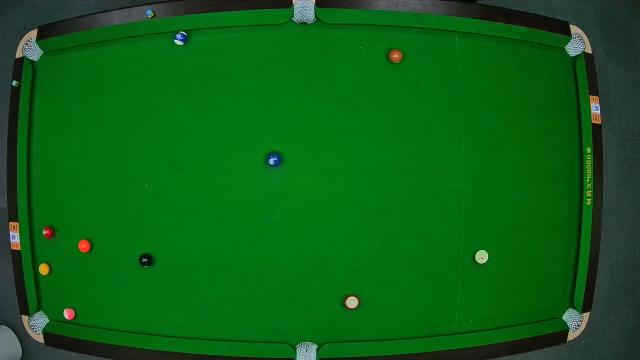bag1: (21, 35, 43, 62)
bag2: (290, 0, 318, 26)
bag3: (563, 30, 589, 58)
bag4: (22, 309, 50, 337)
bag5: (294, 338, 320, 360)
bag6: (560, 308, 588, 336)
ball0: (474, 248, 490, 264)
ball1: (38, 261, 50, 277)
ball10: (172, 31, 190, 47)
ball11: (344, 294, 360, 310)
ball12: (62, 306, 76, 322)
ball2: (266, 150, 282, 168)
ball3: (41, 224, 54, 240)
ball5: (78, 239, 92, 255)
ball7: (388, 49, 404, 65)
ball8: (140, 252, 152, 270)
